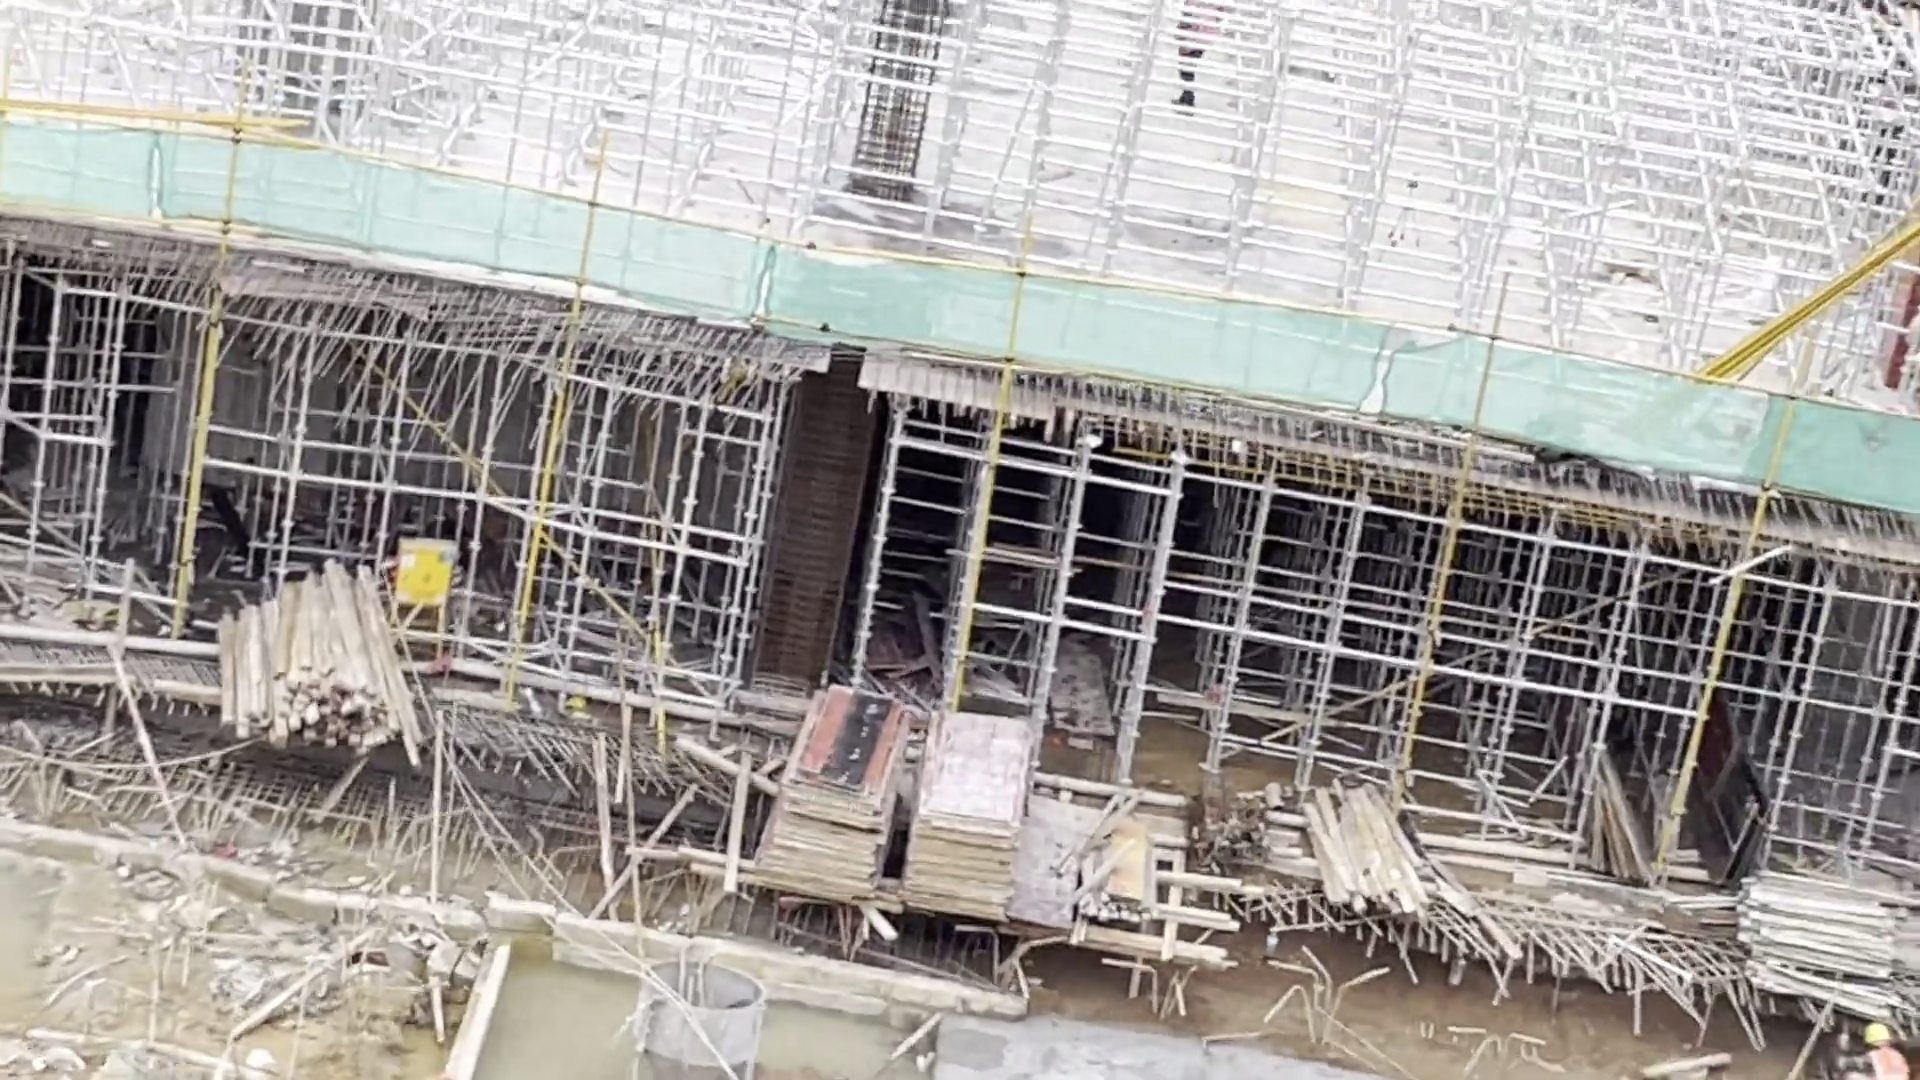board: (767, 686, 1040, 923)
ebox: (394, 530, 458, 615)
helmet: (1858, 1022, 1895, 1047)
wood: (224, 562, 429, 767), (1745, 856, 1909, 1018), (1319, 787, 1437, 920)
